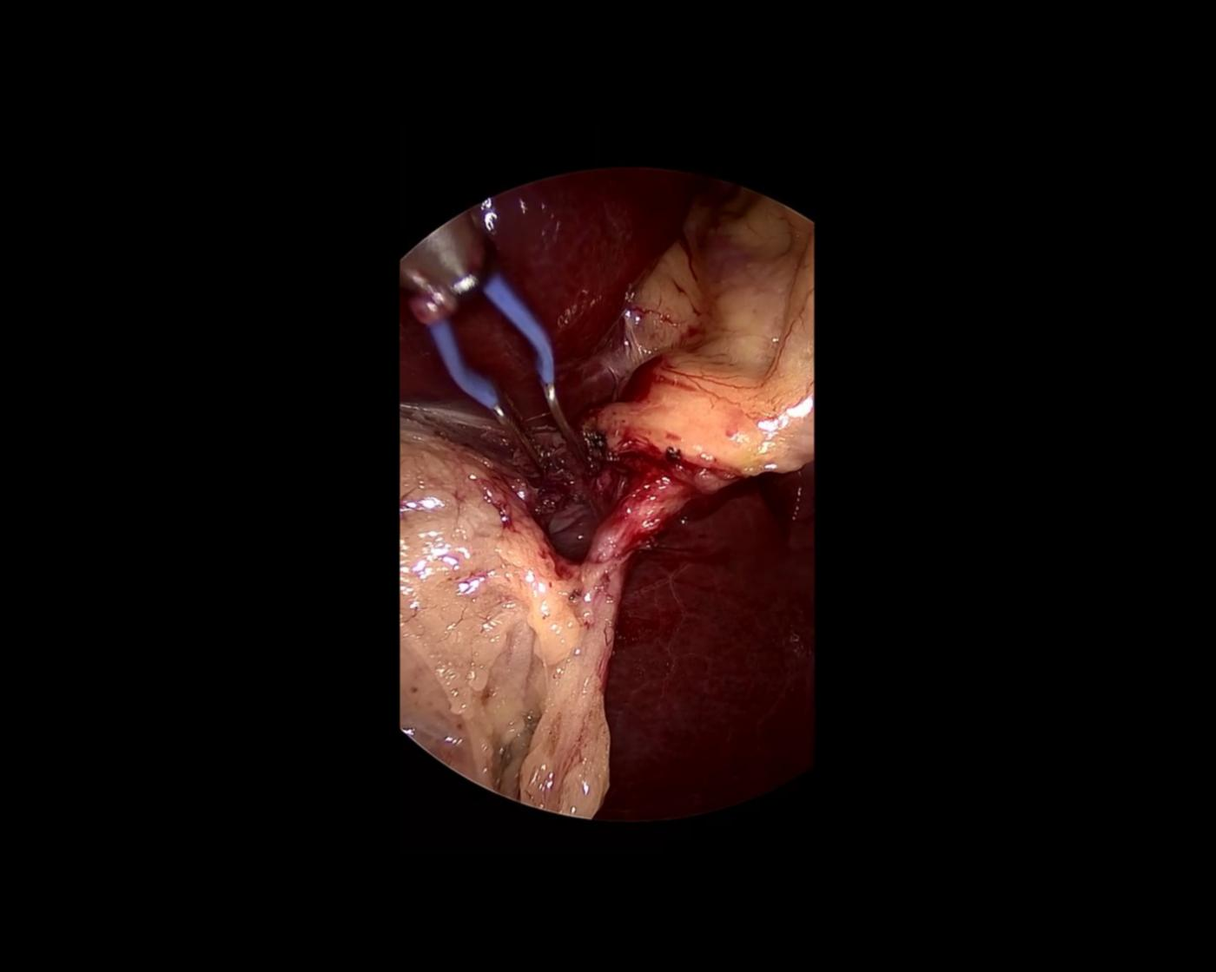Allis: (378, 209, 626, 508)
Gallbladder: (401, 409, 619, 818)
Liver: (356, 143, 731, 410), (594, 465, 815, 817)
